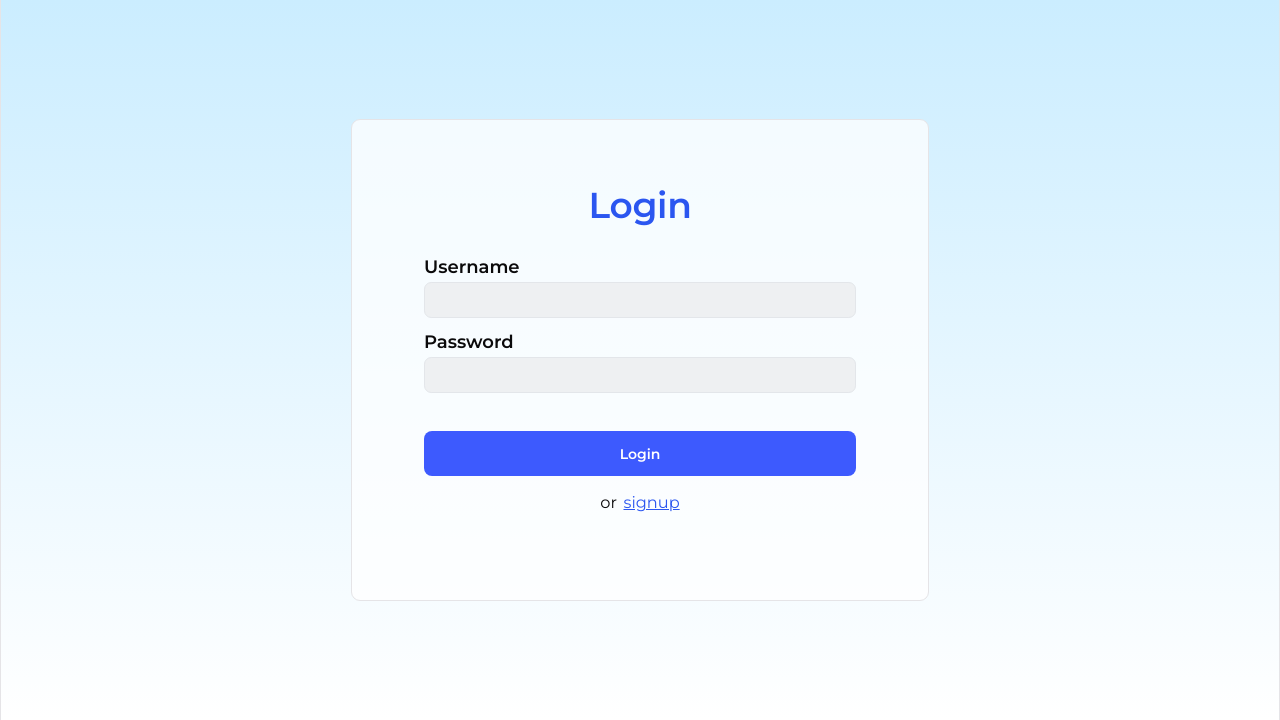
Scenario: LoginPage › shows a validation error when submitted with empty fields
Click the button "Login": (640, 454) [424,431,856,476]
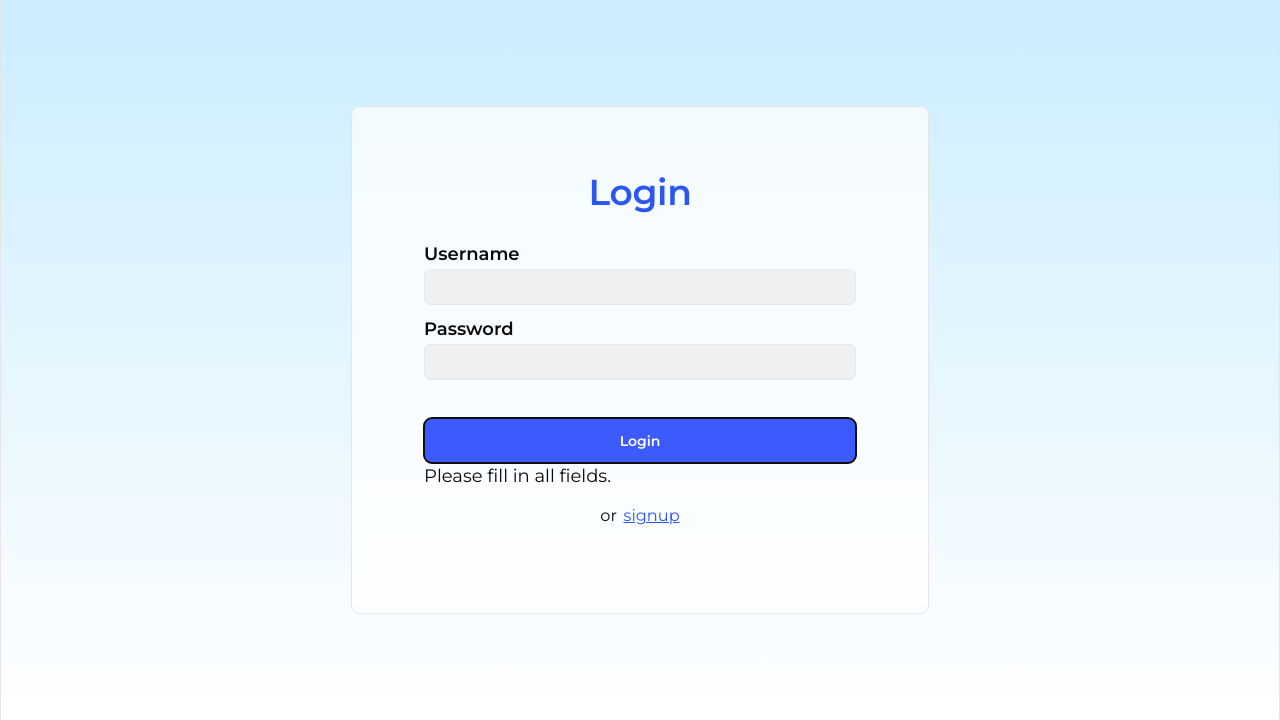
Now the text "Please fill in all fields." is shown, box [424,465,611,487]
